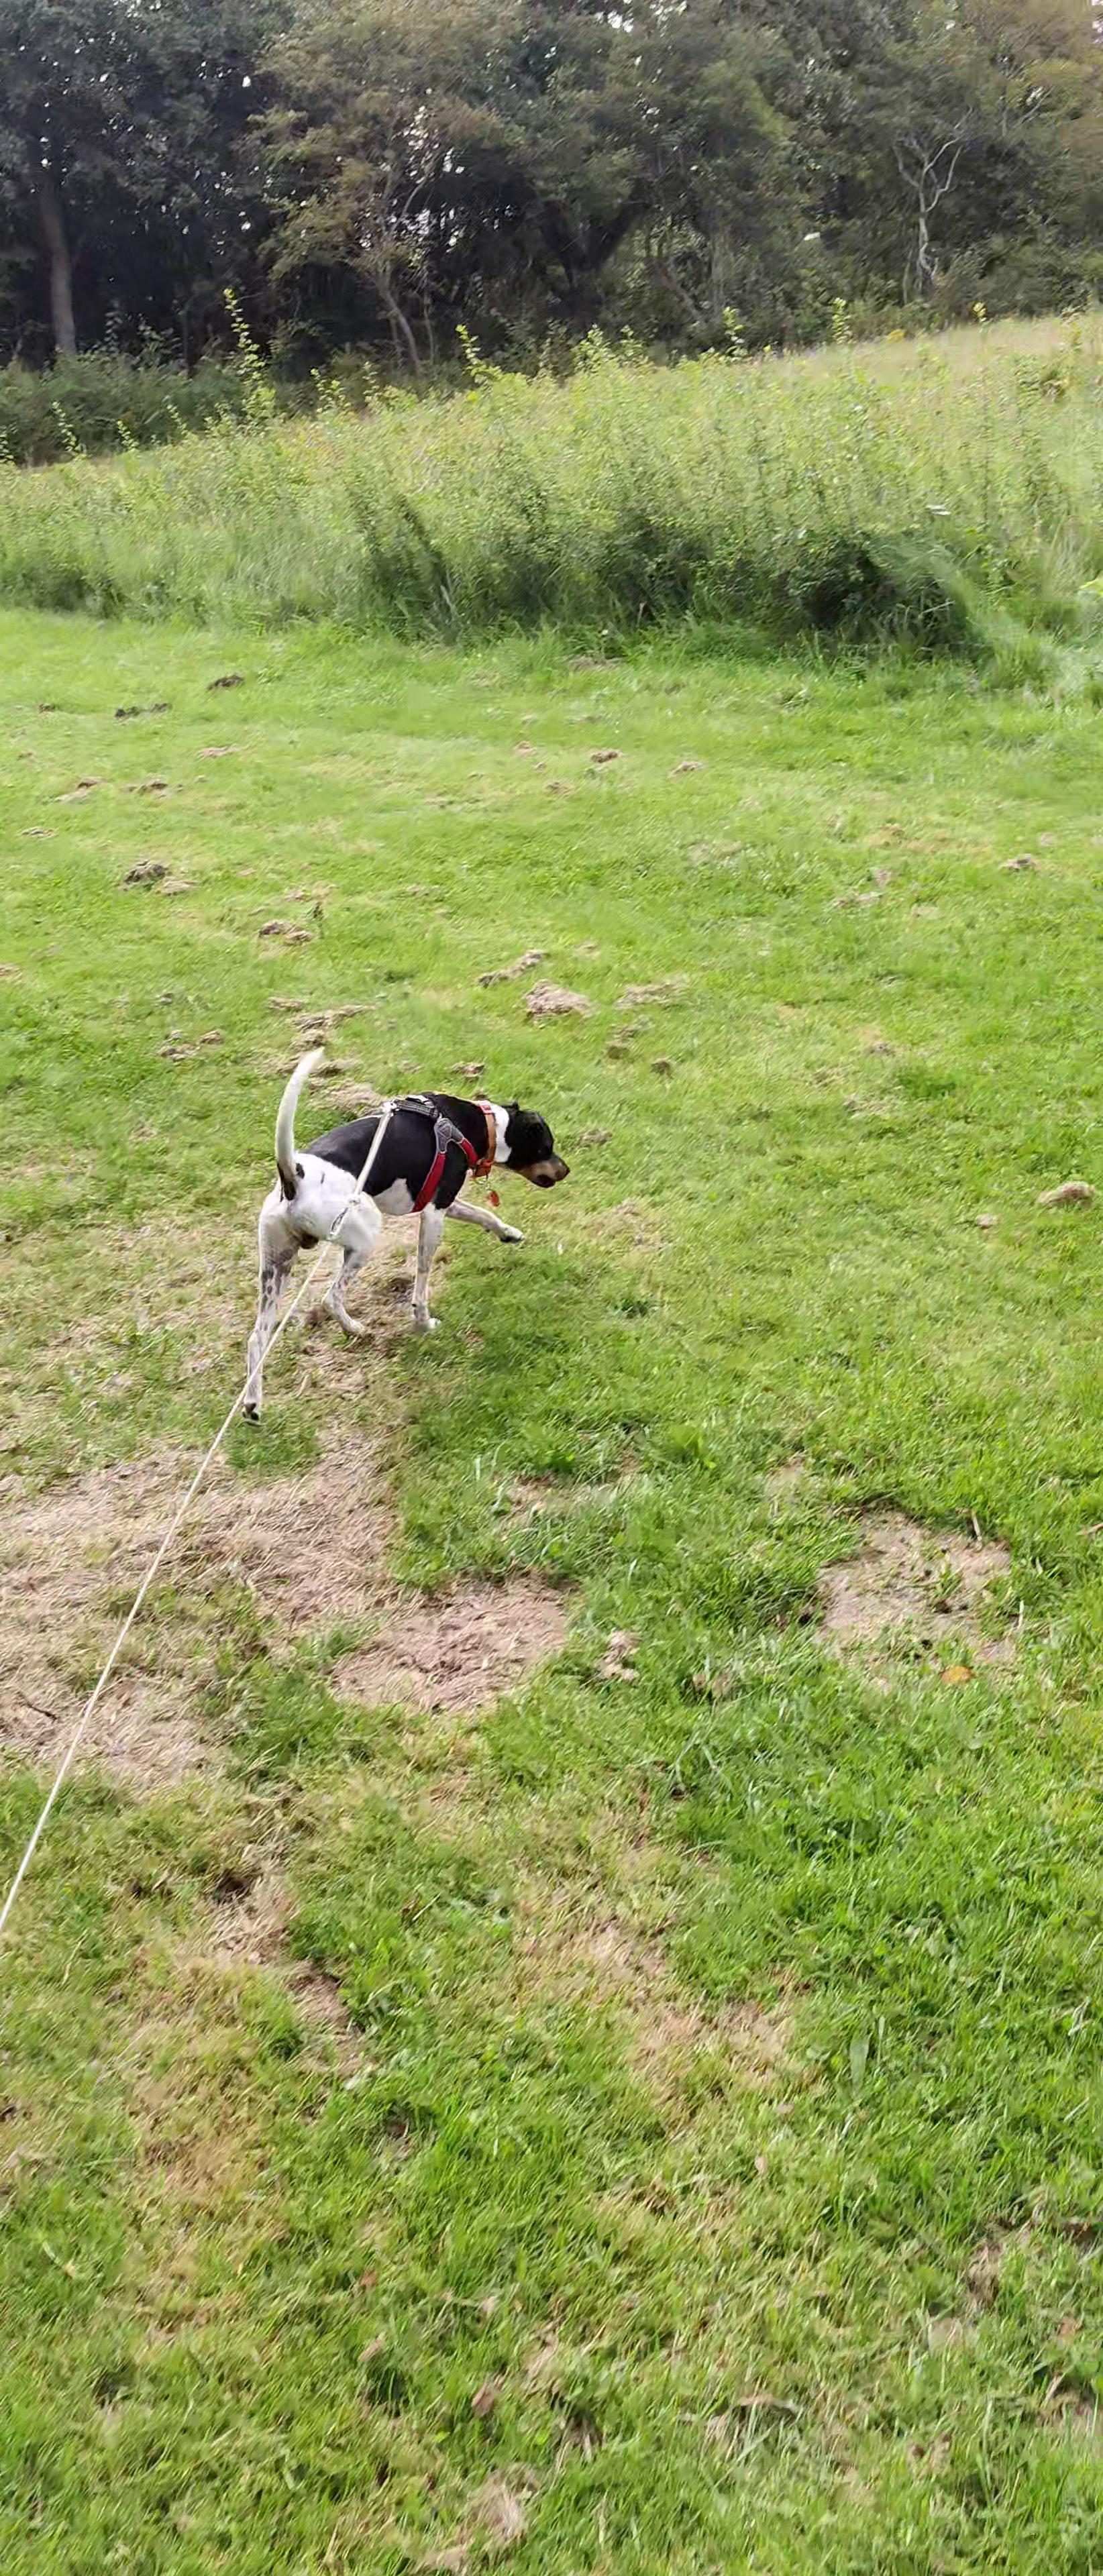Dog: (235, 1042, 577, 1433)
